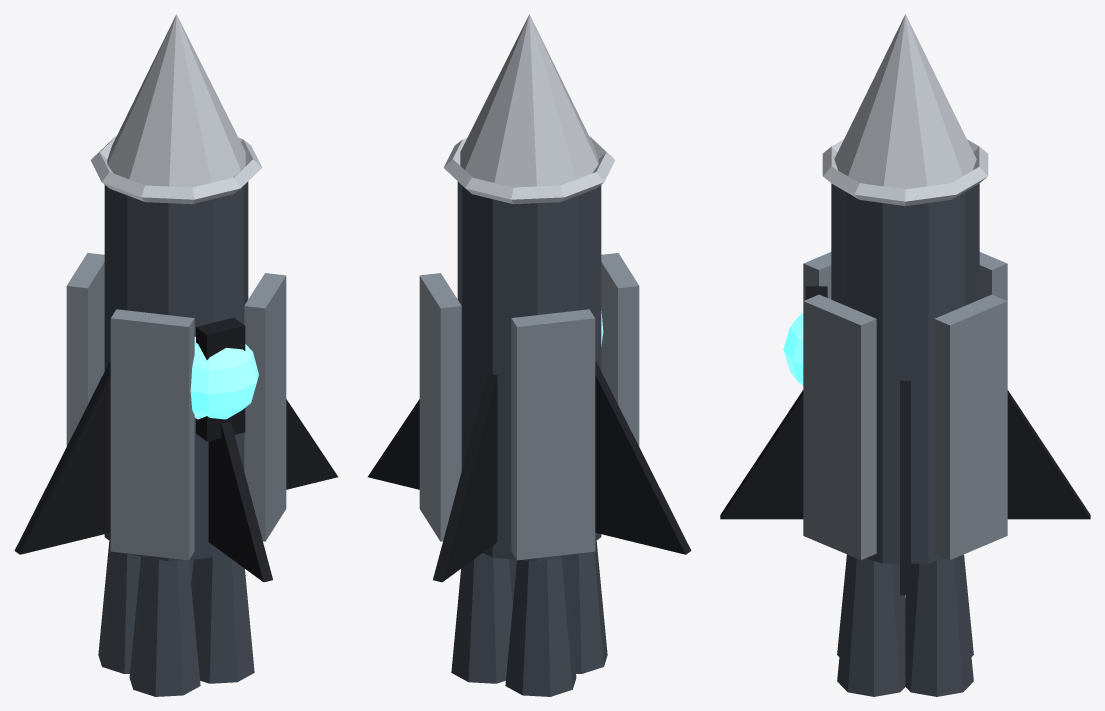
File: vehicle_black_hole.glb
3 renders of one model, left to right at view 1: azimuth 30°, elevation 25°; view 2: azimuth 150°, elevation 25°; view 3: azimuth 270°, elevation 25°, orthographic.
Visible parts, largest first — view 1: vehicle_black_hole; view 2: vehicle_black_hole; view 3: vehicle_black_hole.
Boxes of the visible parts, x1=… form: vehicle_black_hole: x1=14, y1=14, x2=337, y2=696; vehicle_black_hole: x1=368, y1=14, x2=691, y2=696; vehicle_black_hole: x1=720, y1=14, x2=1090, y2=696.
Size of the model in its own units: 1.03 by 2 by 1.03.
